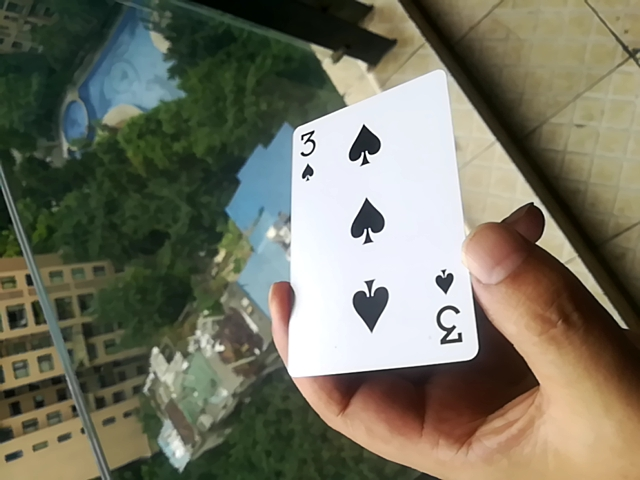ht 3: (276, 62, 479, 381)
